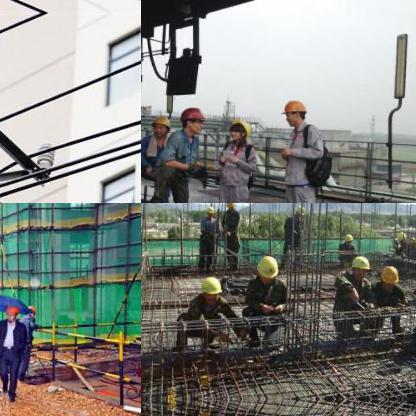Helmet: (280, 94, 308, 127), (178, 104, 204, 132), (253, 251, 277, 280), (198, 274, 222, 302), (348, 254, 370, 282), (150, 112, 172, 138), (378, 262, 398, 290), (226, 117, 247, 143), (4, 303, 18, 321), (201, 205, 215, 219), (24, 300, 36, 316), (393, 228, 405, 244), (342, 230, 354, 244), (293, 203, 305, 217), (222, 203, 237, 212)
